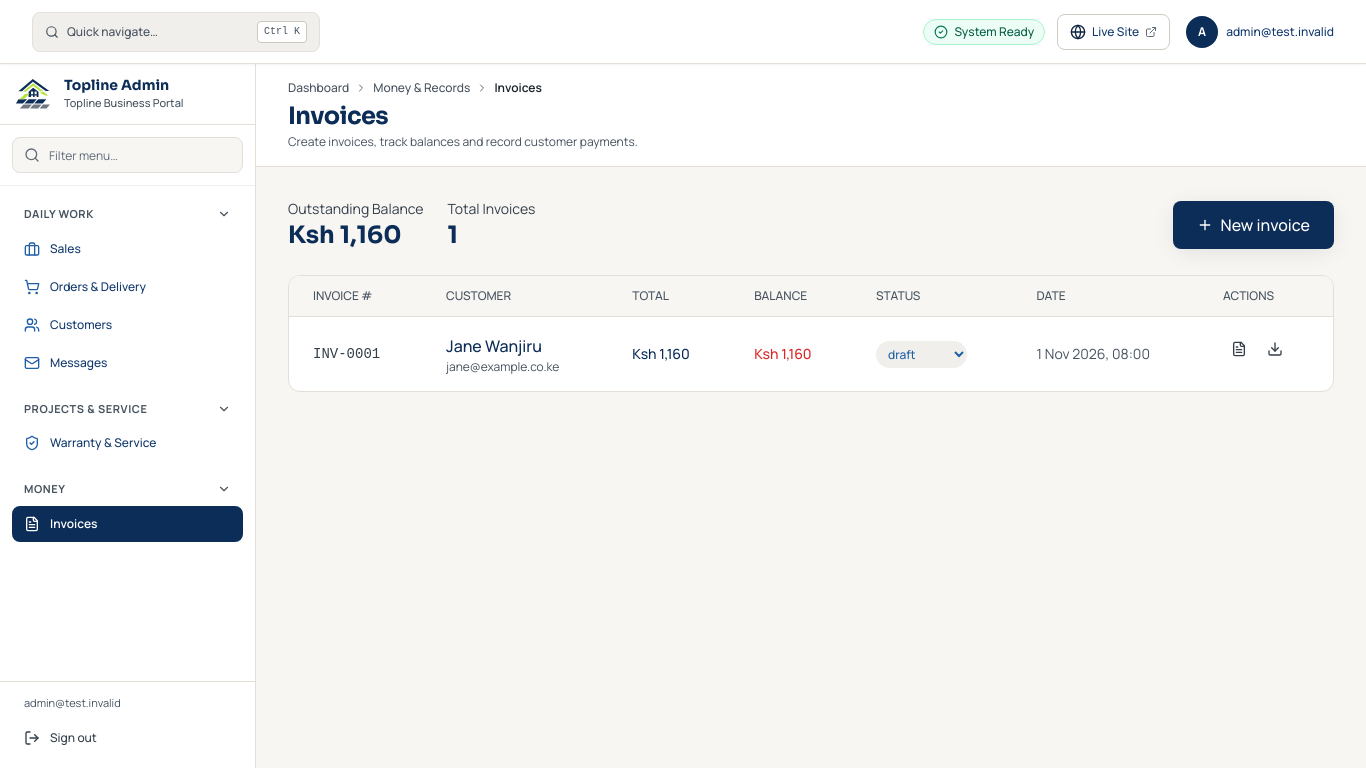
it: admin: invoice detail › opens an invoice that has line items without crashing
Click the button titled "Open invoice": (1239, 349) [1223,333,1255,365]
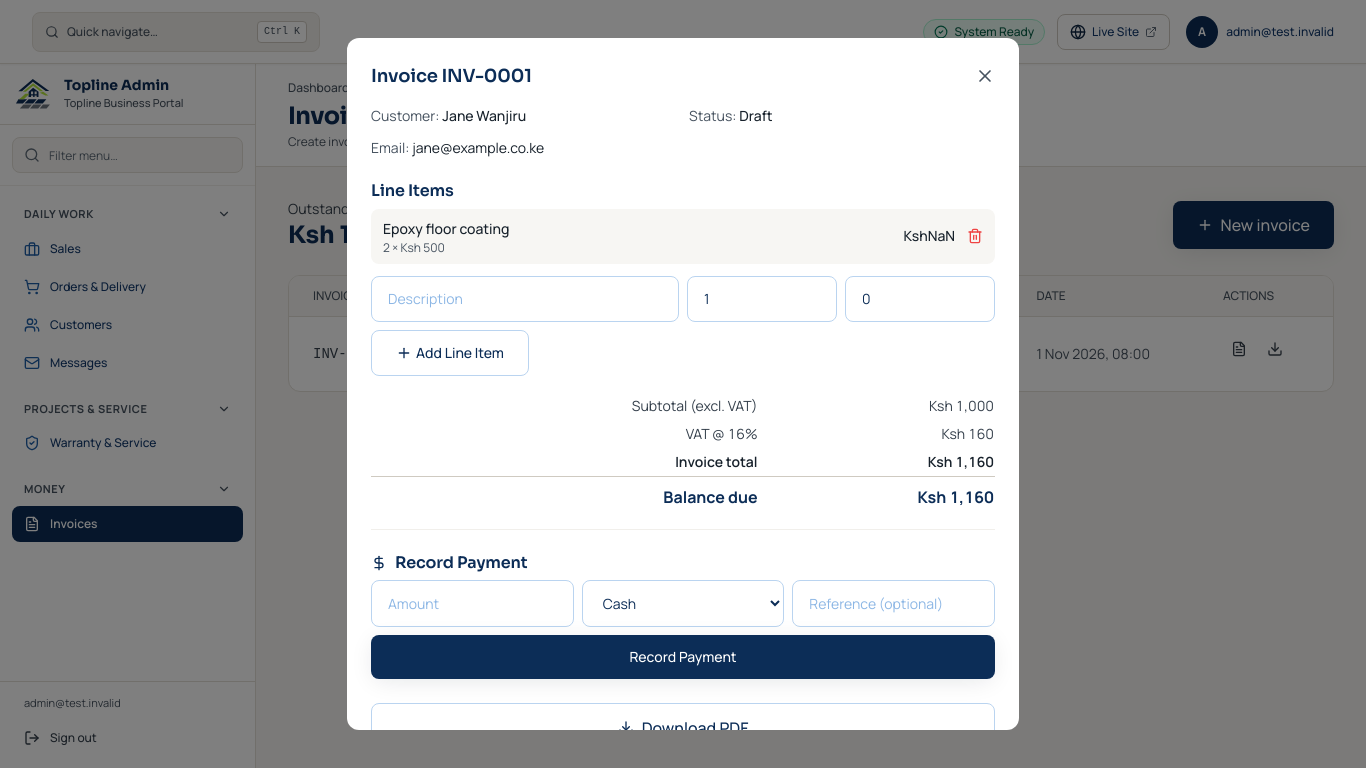
Expected: the text "Epoxy floor coating" is shown, [383,217,510,240]
